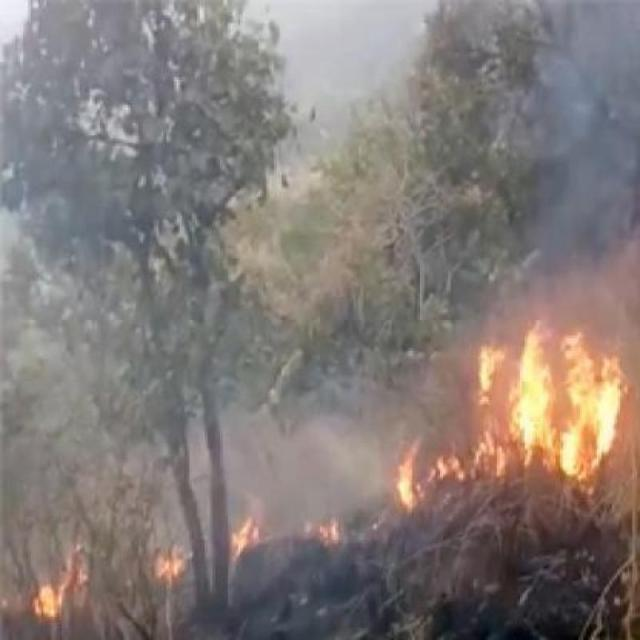Fire: (445, 326, 640, 481), (142, 495, 378, 580), (18, 522, 94, 628)
